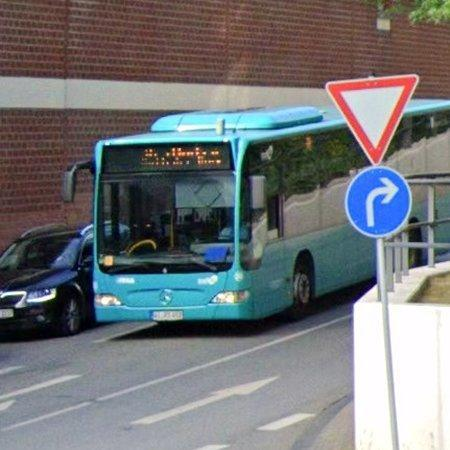buses: (63, 107, 375, 324)
